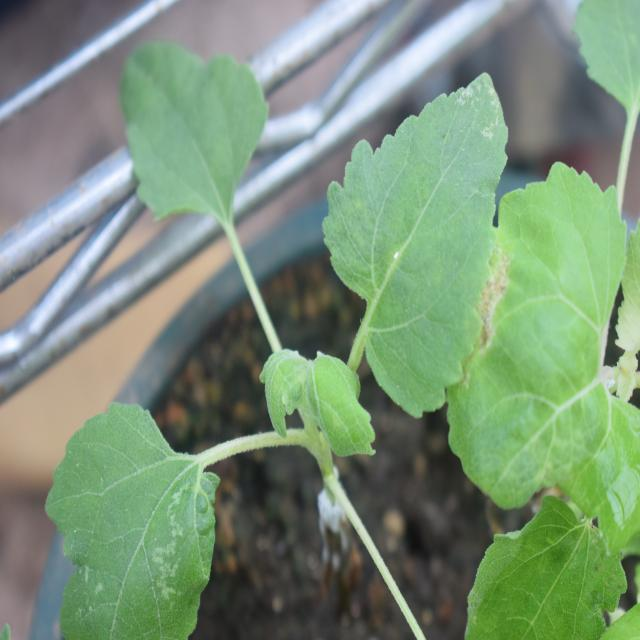cocklebur: (37, 41, 506, 587)
